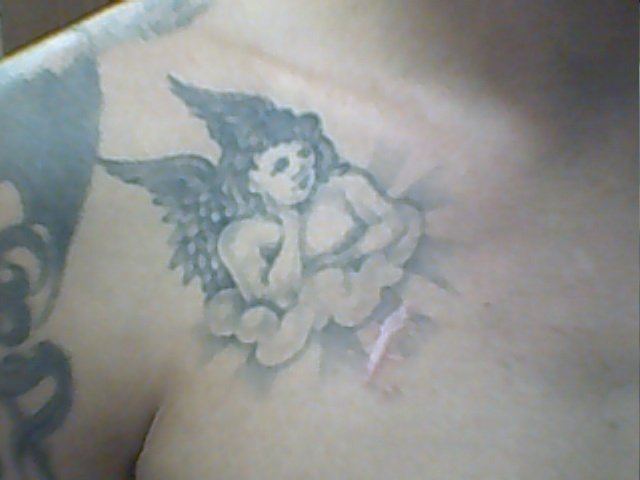tatu1_angel: (93, 57, 489, 389)
